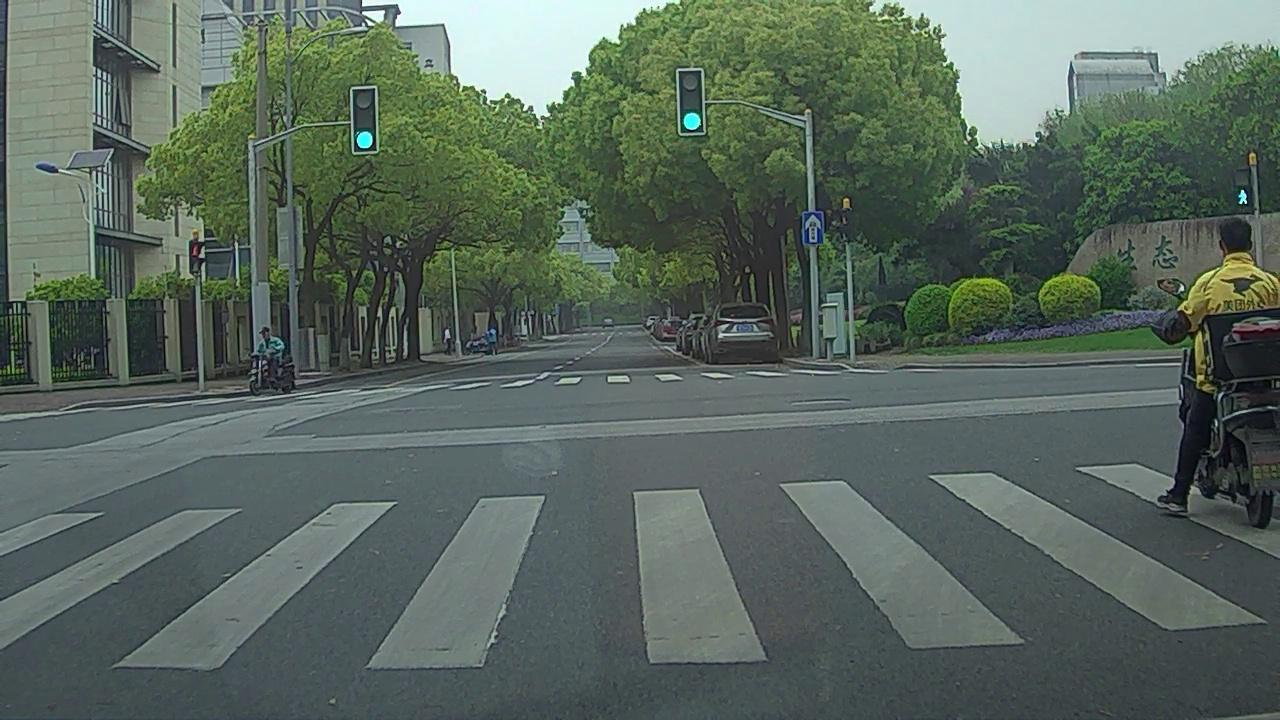traffic_light: (353, 88, 378, 152), (680, 71, 705, 134)
